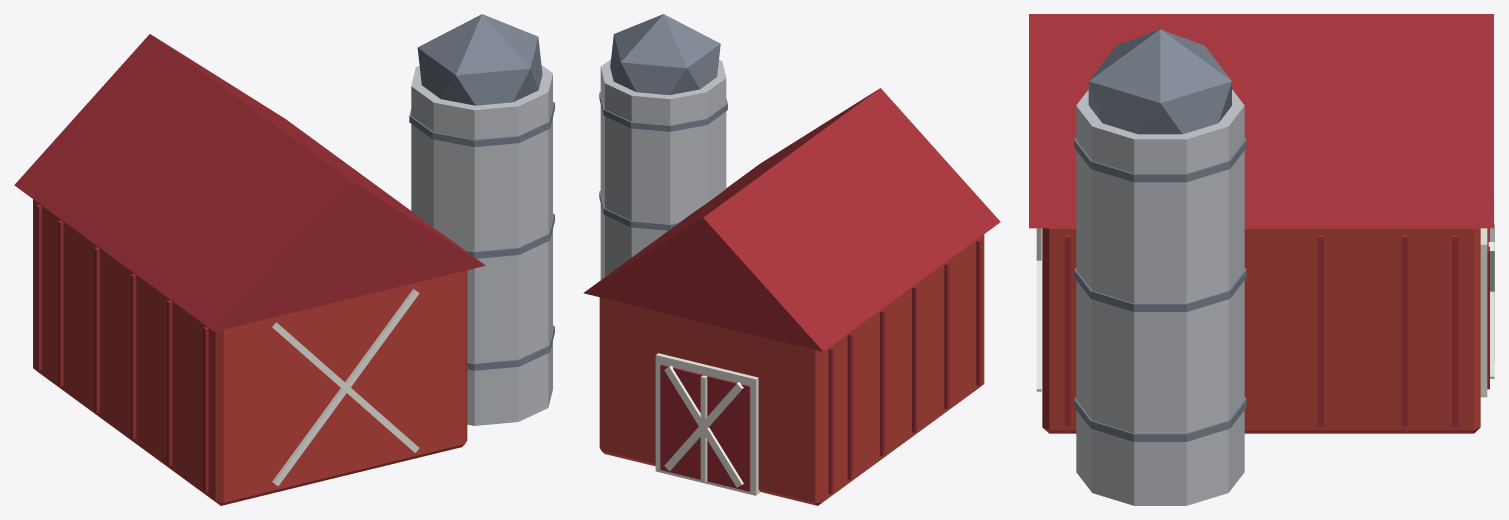
File: barn.glb
The picture shows the model from 3 angles, left to right: view 1: azimuth 30°, elevation 25°; view 2: azimuth 150°, elevation 25°; view 3: azimuth 270°, elevation 25°; orthographic projection. The views are drawn at different scales.
Parts seen in each view (by area): view 1: barn; view 2: barn; view 3: barn.
Boxes of the visible parts, <box> form: barn: <box>14,14,554,505</box>; barn: <box>583,14,1000,505</box>; barn: <box>1029,14,1494,505</box>.
Bounding box in the file's own units: 3.07 × 2.9 × 2.76.
1 material, 1 textured.
